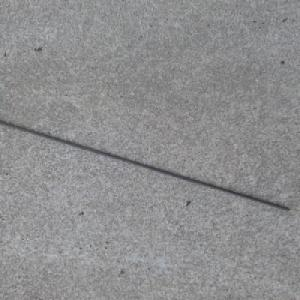LuggagePart: (0, 120, 291, 211)
